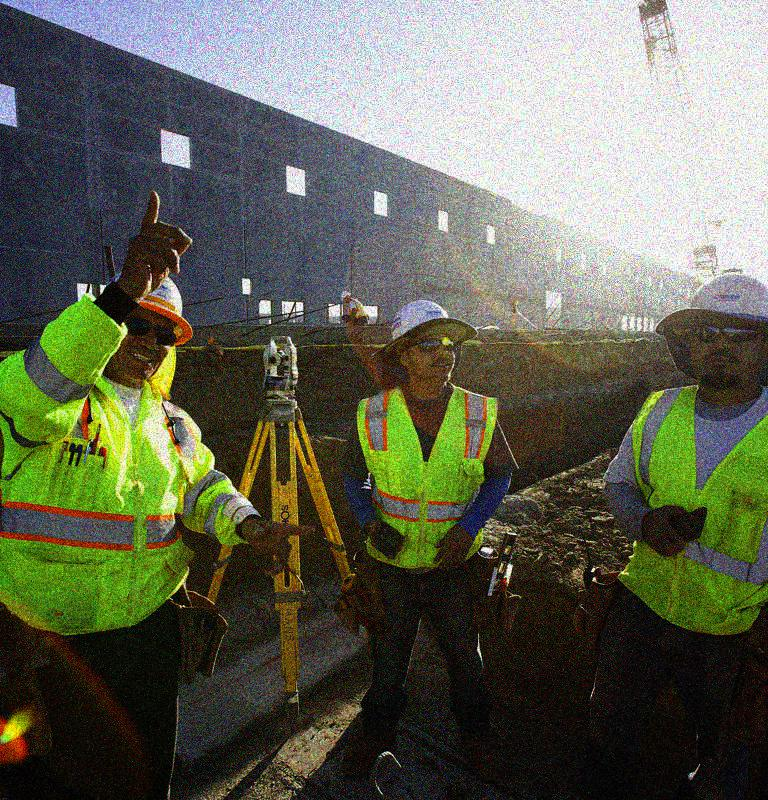helmet: (660, 267, 768, 389), (108, 262, 195, 390), (378, 296, 477, 389), (340, 289, 352, 304)
